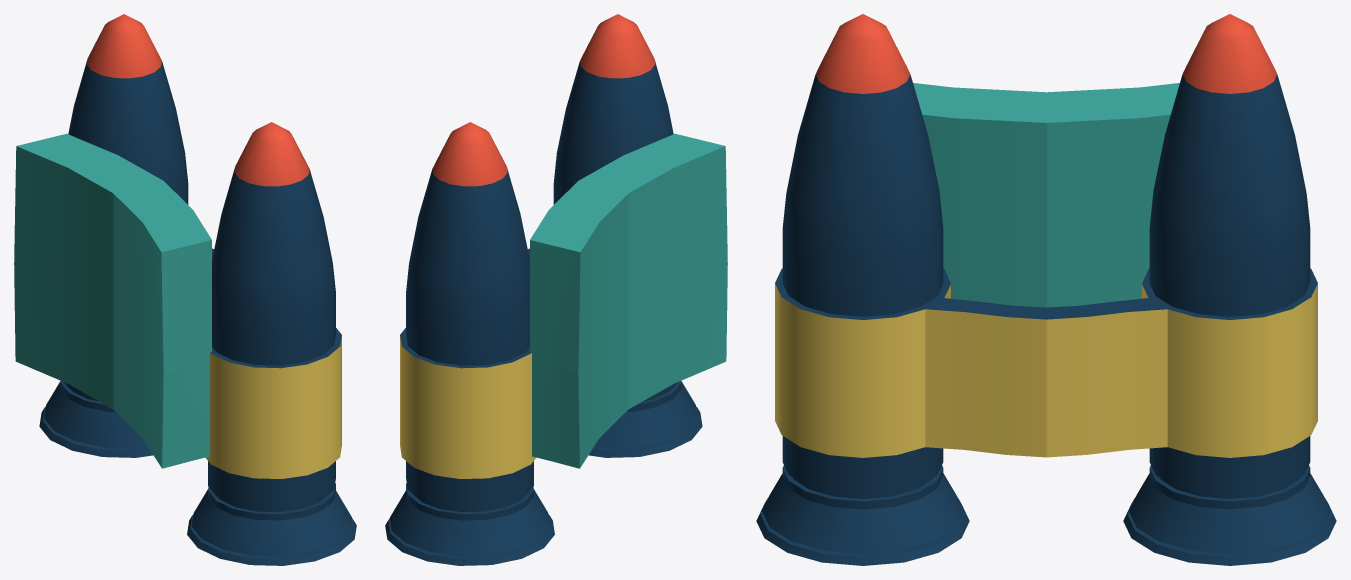
The model's file is jetpack.fbx.
3 renders of one model, left to right at view 1: azimuth 30°, elevation 25°; view 2: azimuth 150°, elevation 25°; view 3: azimuth 270°, elevation 25°, orthographic. The views are drawn at different scales.
Visible parts, largest first — view 1: Cube; view 2: Cube; view 3: Cube.
Boxes of the visible parts, bbox=[...] form: Cube: bbox=[14, 14, 356, 565]; Cube: bbox=[385, 14, 727, 565]; Cube: bbox=[756, 14, 1336, 565].
Size of the model in its own units: 82.13 by 175 by 181.
Materials: 1 (1 with a texture image).
